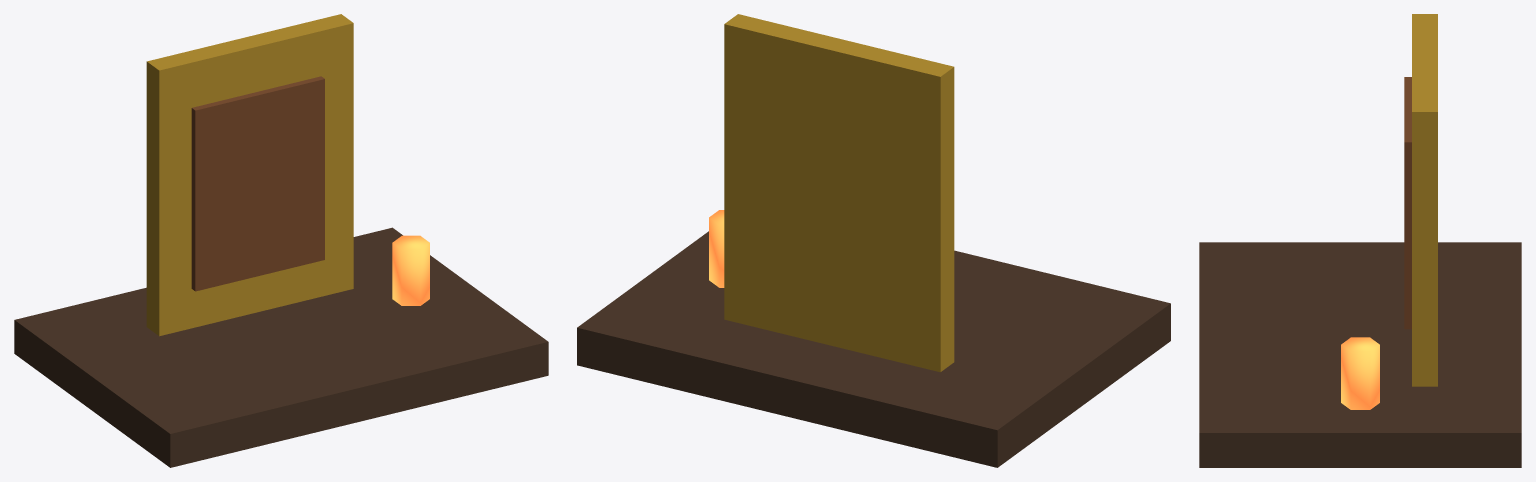
The model's file is icon_corner.glb.
3 renders of one model, left to right at view 1: azimuth 30°, elevation 25°; view 2: azimuth 150°, elevation 25°; view 3: azimuth 270°, elevation 25°, orthographic. The views are drawn at different scales.
Parts seen in each view (by area): view 1: IconCorner; view 2: IconCorner; view 3: IconCorner.
Boxes of the visible parts, box(x1,y1,x2,y2) form: IconCorner: box(14, 14, 548, 467); IconCorner: box(577, 14, 1170, 467); IconCorner: box(1199, 14, 1521, 467).
Bounding box in the file's own units: 0.35 × 0.265 × 0.25.
